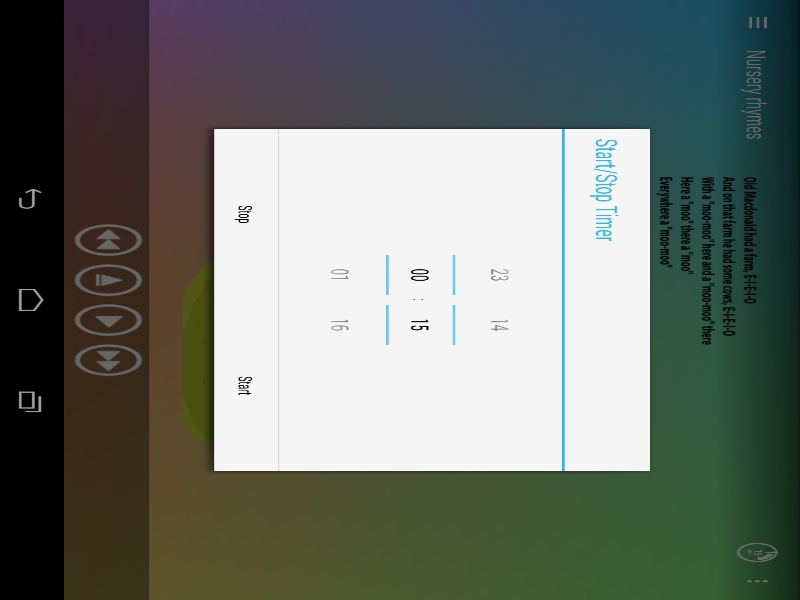Button: (274, 244, 639, 274), (544, 192, 629, 234), (650, 192, 735, 234), (544, 121, 629, 162), (650, 121, 735, 162)
Input: (544, 162, 629, 192), (650, 162, 735, 192)
